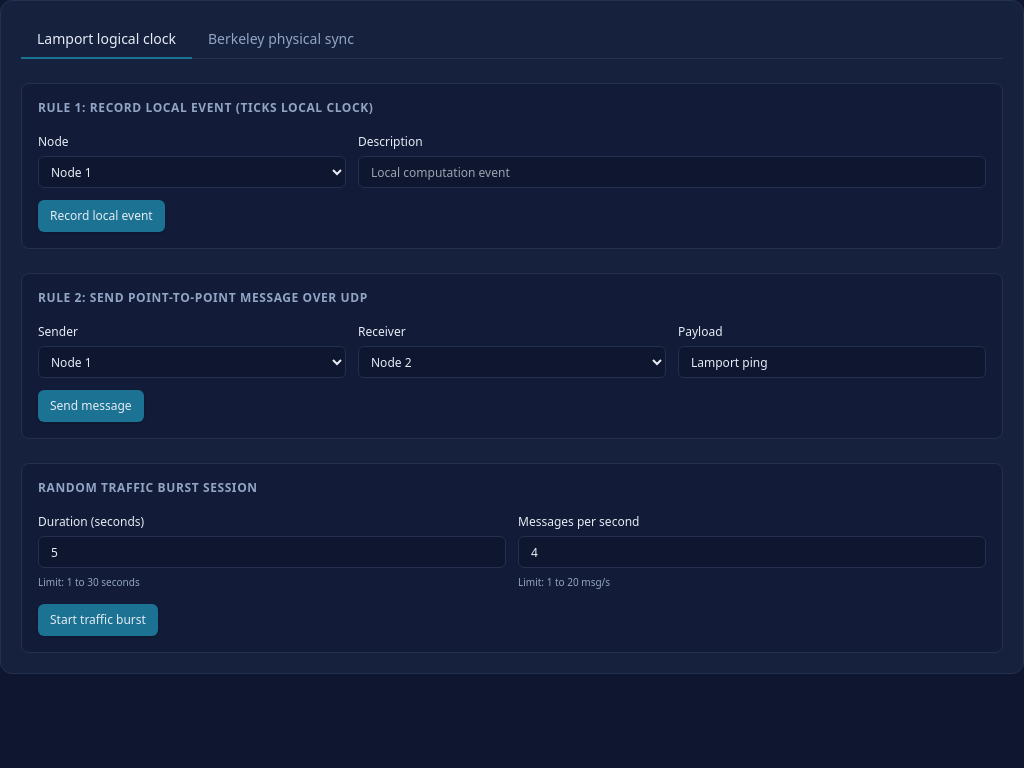
Test: ClockSyncControls › submits a local event and moves focus to result panel
Click the button "Record local event" at (101, 216), box [38,200,165,232]
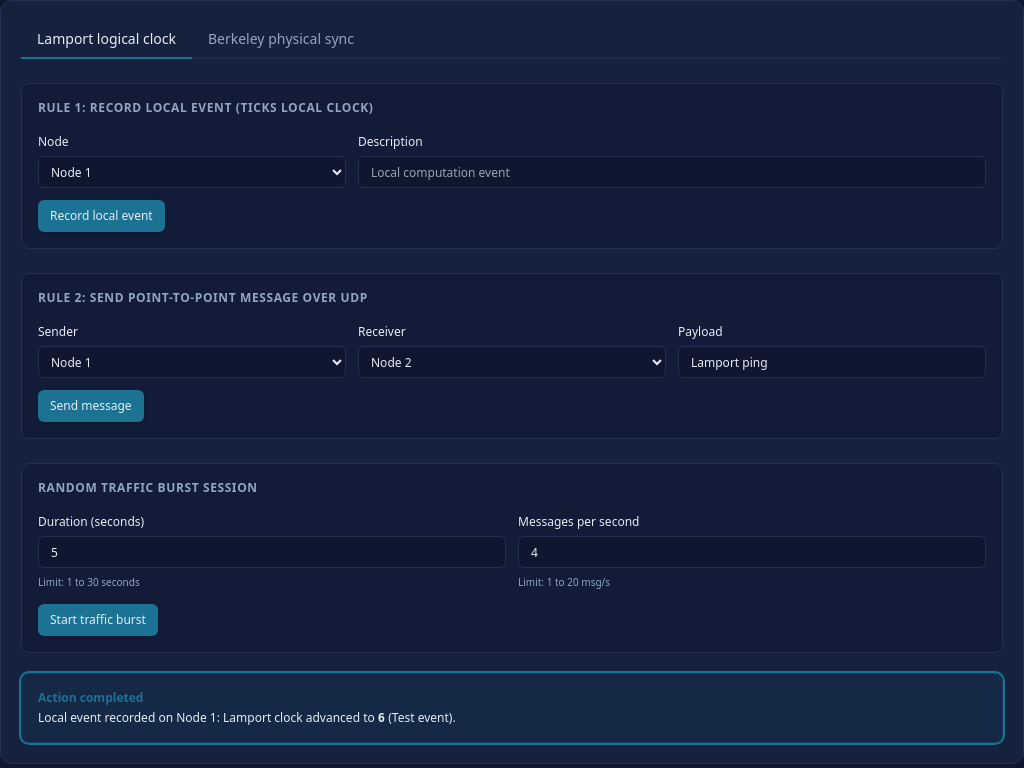
Check: the element with test id "action-result" shows "Lamport clock advanced to 6", box [21,673,1003,743]
